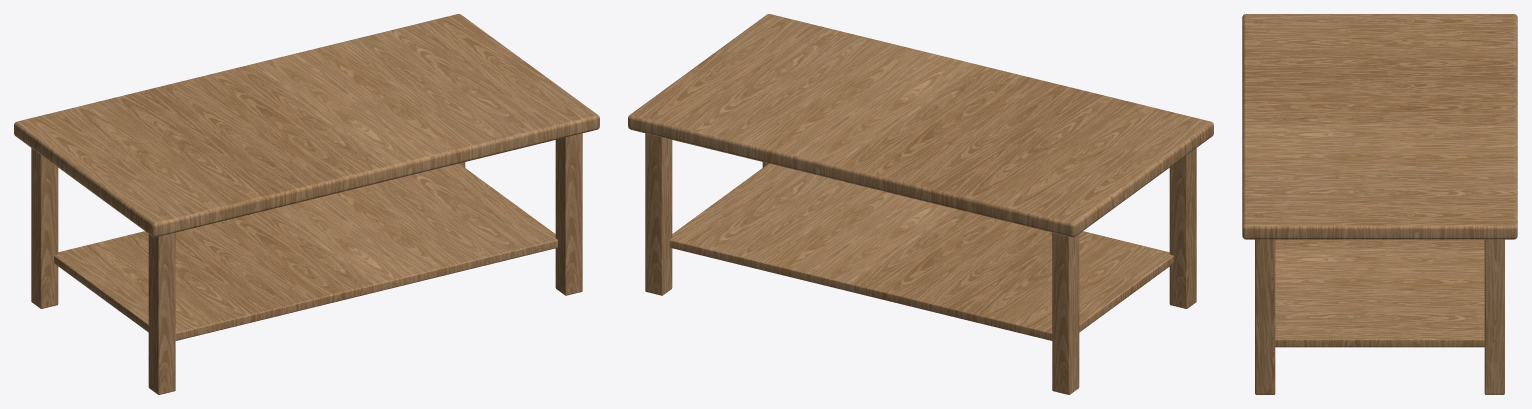
File: ap_coffee_table.fbx
3 views of the same model, side by side, from view 1: azimuth 30°, elevation 25°; view 2: azimuth 150°, elevation 25°; view 3: azimuth 270°, elevation 25° (orthographic). The views are drawn at different scales.
Parts seen in each view (by area): view 1: ap_coffee_table; view 2: ap_coffee_table; view 3: ap_coffee_table.
Boxes of the visible parts, <box> form: ap_coffee_table: <box>14,14,599,394</box>; ap_coffee_table: <box>628,14,1213,394</box>; ap_coffee_table: <box>1242,14,1517,394</box>.
Bounding box in the file's own units: 1.1 × 0.42 × 0.6.
Materials: 1 (1 with a texture image).
